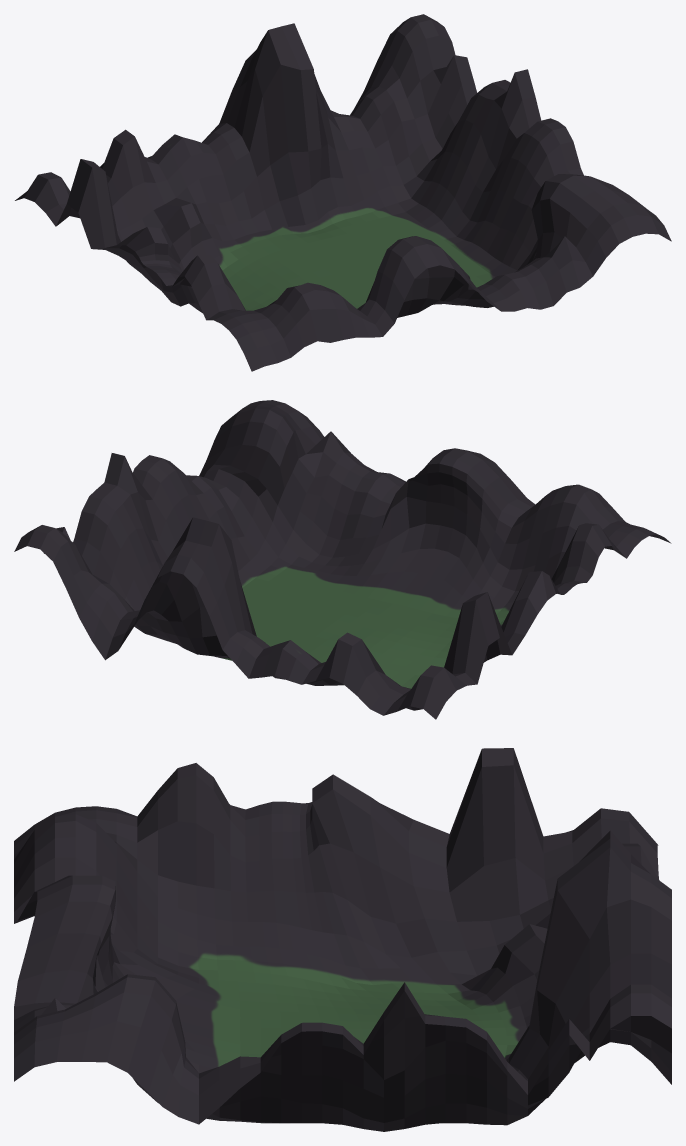
The model's file is terrain.glb.
3 renders of one model, top to bottom at view 1: azimuth 30°, elevation 25°; view 2: azimuth 150°, elevation 25°; view 3: azimuth 270°, elevation 25°, orthographic. The views are drawn at different scales.
Visible parts, largest first — view 1: Plane; view 2: Plane; view 3: Plane.
Part boxes in pixels (x1,y1,x2,y2): Plane: (15,14,671,371); Plane: (14,400,671,719); Plane: (14,748,671,1131).
Bounding box in the file's own units: 664 × 279 × 664.
1 material, 1 textured.
